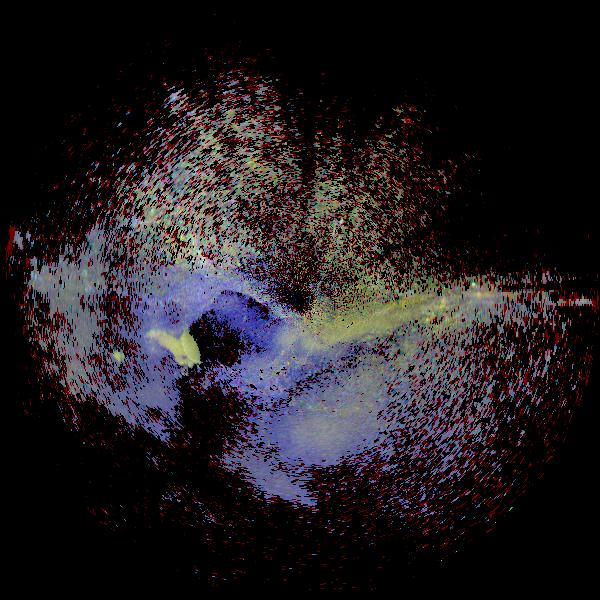roost: (127, 320, 214, 407), (99, 350, 126, 377)
